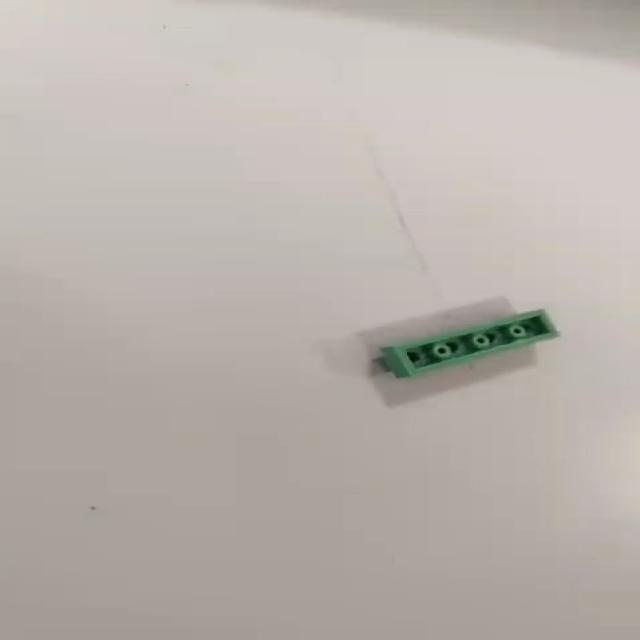C4x1x0: (375, 304, 570, 389)
